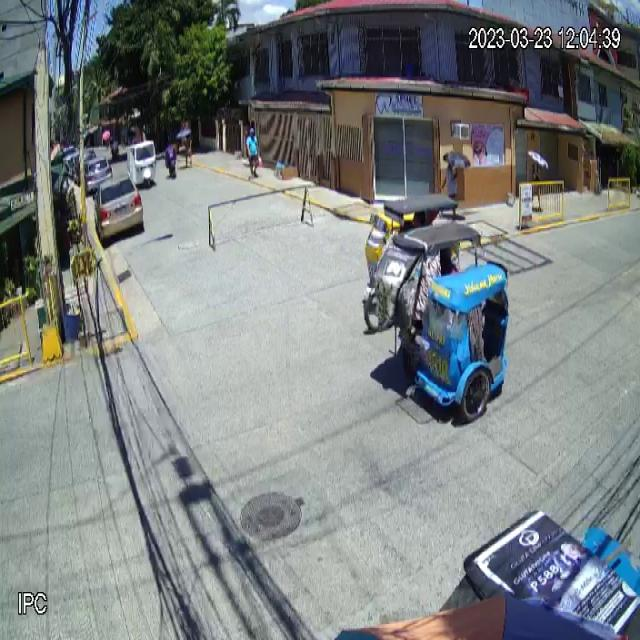Tricycle: (389, 220, 510, 423)
